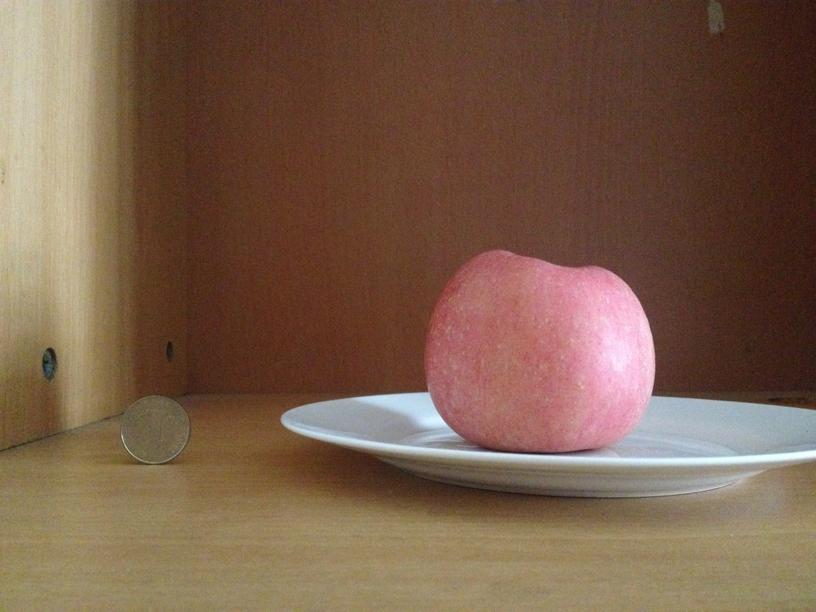apple: (422, 246, 655, 451)
coin: (121, 394, 191, 465)
